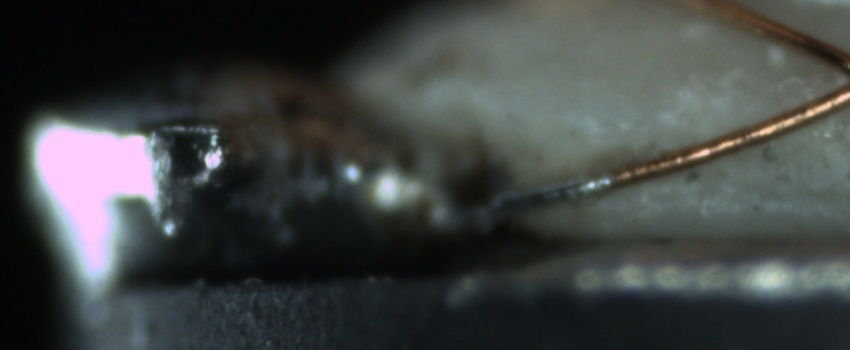TS: (458, 170, 609, 223)
TTCW: (455, 156, 634, 219)
